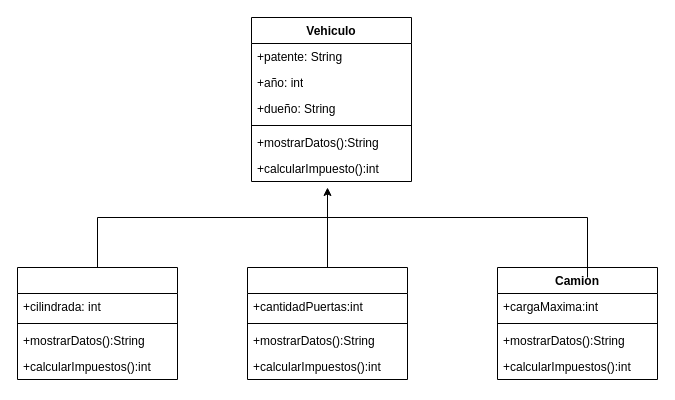
The diagram is 675 pixels wide and 400 high, and some of its shapes have lost their labels. Each missing label, with the box of its shape:
Auto: (246, 266, 408, 380)
Moto: (16, 266, 178, 380)
